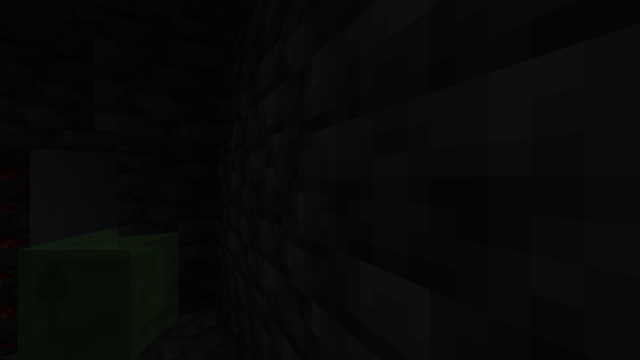slimes: (25, 225, 173, 358)
